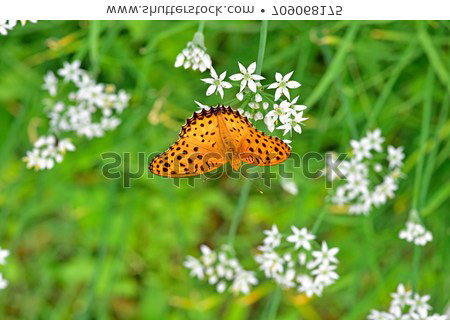Argyreus hyperbius: (147, 101, 298, 194)
butterfly: (145, 99, 296, 192)
